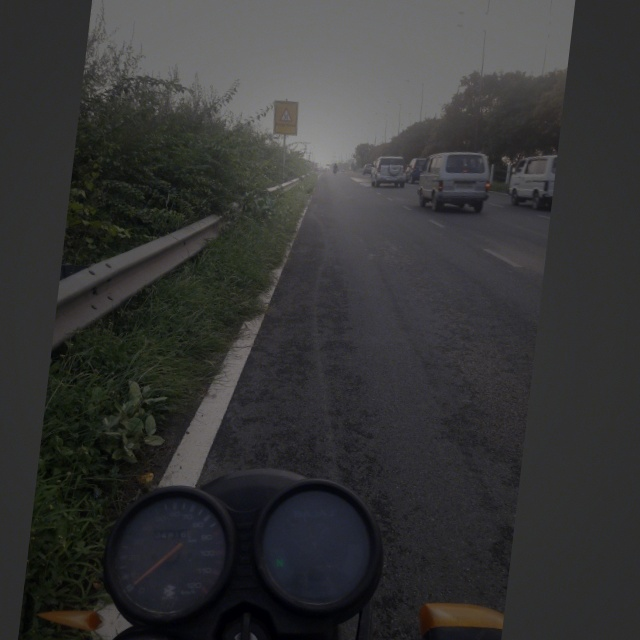Narrow_Bridge: (272, 100, 299, 132)
